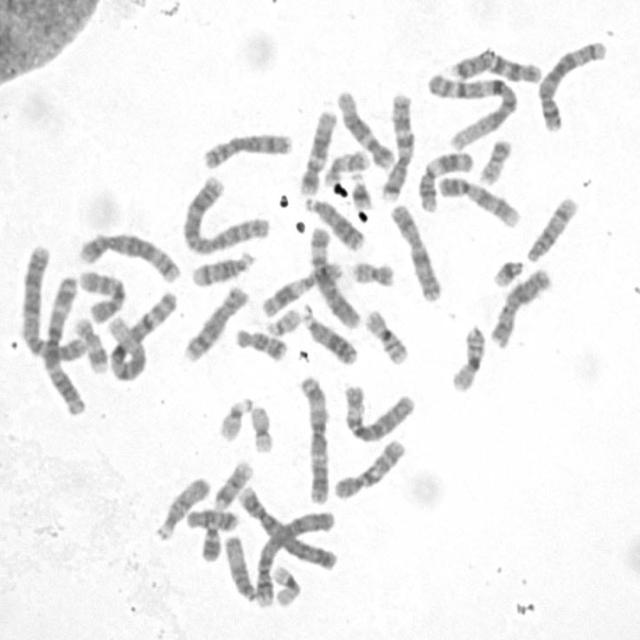A1: (423, 68, 520, 152), (106, 285, 180, 382)
A2: (16, 242, 88, 363), (179, 172, 272, 256)
A3: (39, 271, 87, 417), (295, 370, 332, 504)
B4: (233, 481, 340, 573), (248, 505, 336, 610)
B5: (534, 36, 609, 132), (75, 228, 182, 284)
C10: (329, 433, 409, 501), (76, 264, 129, 323)
C11: (257, 256, 345, 319), (414, 146, 475, 214)
C12: (334, 84, 397, 170), (295, 105, 339, 197)
C6: (306, 220, 364, 331), (338, 378, 418, 444)
C7: (377, 88, 415, 202), (447, 47, 542, 84)
C8: (180, 280, 252, 364), (199, 127, 295, 170)
C9: (200, 461, 258, 557), (434, 171, 524, 230)
D13: (296, 300, 359, 366), (302, 193, 367, 252)
D14: (524, 192, 581, 265), (190, 247, 258, 288)
D15: (150, 471, 211, 542), (220, 531, 258, 603)
E16: (361, 304, 410, 367), (447, 319, 488, 393)
E17: (71, 313, 110, 374), (321, 146, 371, 187)
E18: (232, 322, 290, 363), (182, 503, 240, 532)
F19: (246, 400, 277, 455), (268, 560, 303, 608)
F20: (476, 134, 514, 186), (347, 256, 396, 288)
G21: (488, 254, 526, 288), (346, 170, 374, 210)
G22: (215, 392, 255, 444), (261, 304, 303, 336)
X: (386, 200, 444, 304), (487, 263, 554, 349)
